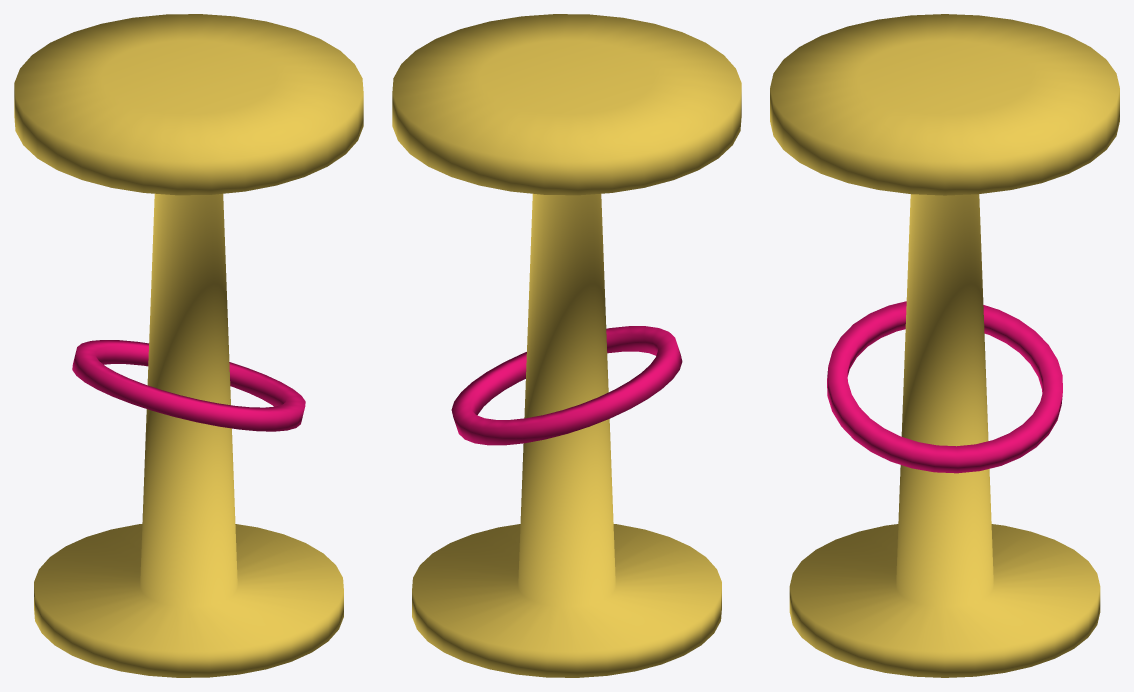
File: chair.glb
The picture shows the model from 3 angles, left to right: view 1: azimuth 30°, elevation 25°; view 2: azimuth 150°, elevation 25°; view 3: azimuth 270°, elevation 25°; orthographic projection.
Visible parts, largest first — view 1: Cylinder.005; view 2: Cylinder.005; view 3: Cylinder.005.
Part boxes in pixels (x1,y1,x2,y2): Cylinder.005: [14, 14, 363, 677]; Cylinder.005: [392, 14, 741, 677]; Cylinder.005: [770, 14, 1119, 677].
Size of the model in its own units: 0.8359 by 1.41 by 0.8359.
